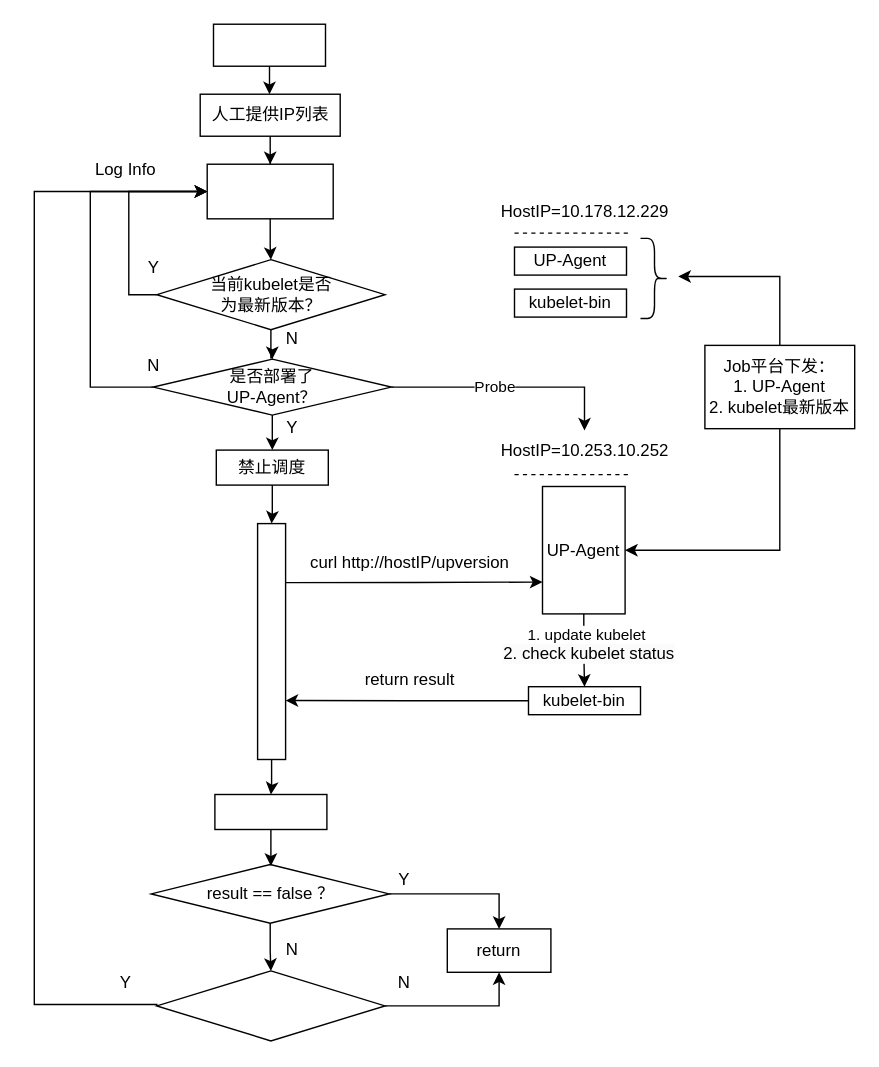
The diagram is 879 pixels wide and 1067 high, and some of its shapes have lost their labels. Each missing label, with the centre of its shape:
"kubelet升级到最新版本？" belongs at point 270,1005.
"下发升级指令" belongs at point 271,641.
"在master 执行shell脚本" belongs at point 269,44.
"开放调度" belongs at point 270,811.
"遍历hostIP列表" belongs at point 269,191.
